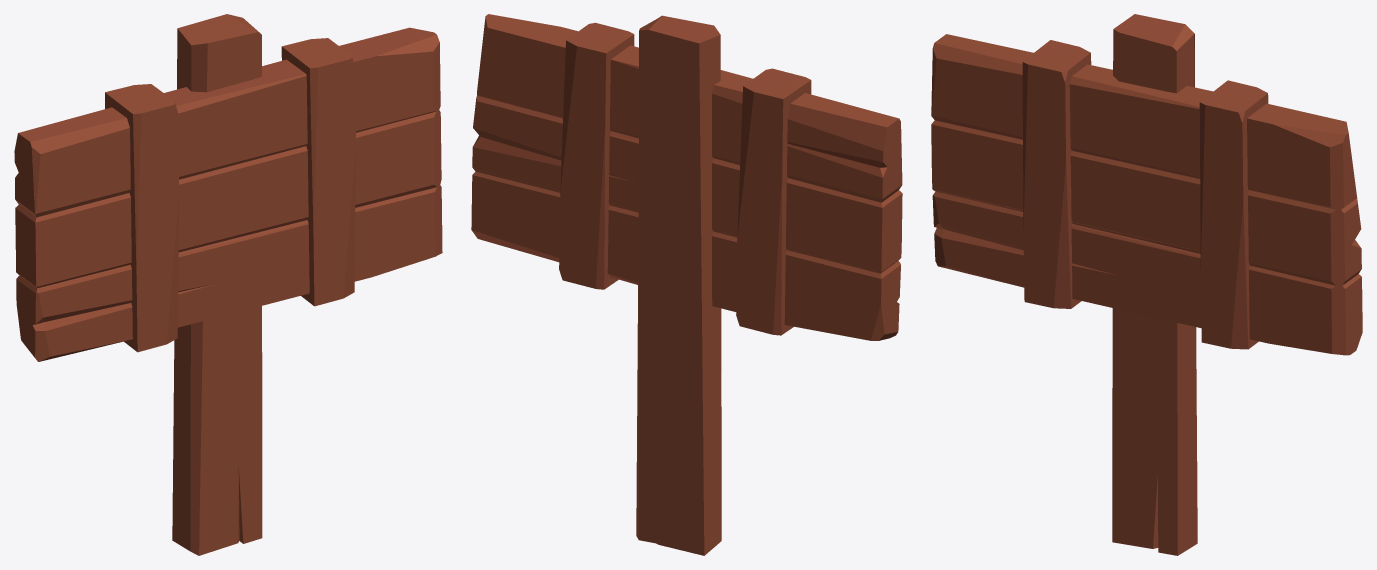
Rendered from Board.fbx.
The picture shows the model from 3 angles, left to right: view 1: azimuth 30°, elevation 25°; view 2: azimuth 150°, elevation 25°; view 3: azimuth 330°, elevation 25°; orthographic projection.
Visible parts, largest first — view 1: mupai; view 2: mupai; view 3: mupai.
Part boxes in pixels (x1,y1,x2,y2): mupai: [14, 14, 442, 555]; mupai: [471, 14, 902, 555]; mupai: [931, 14, 1362, 555].
Size of the model in its own units: 52.02 by 61.94 by 7.8.
